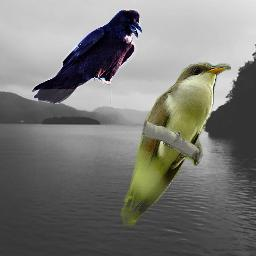Crow: (32, 9, 142, 104)
Cuckoo: (119, 62, 231, 227)
